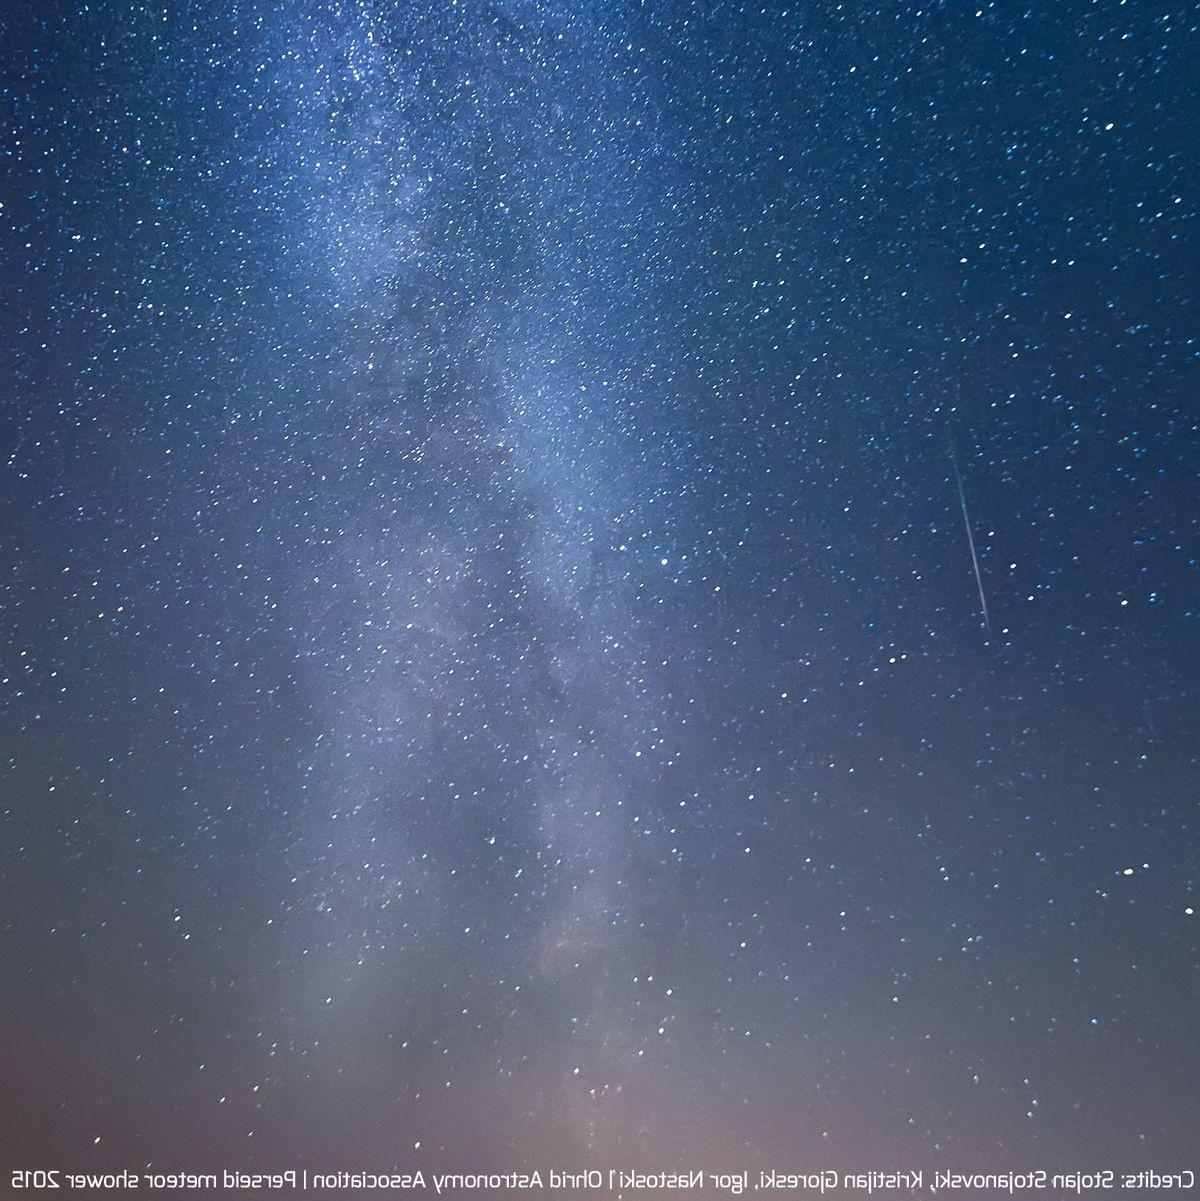meteorite: (936, 440, 1011, 652)
